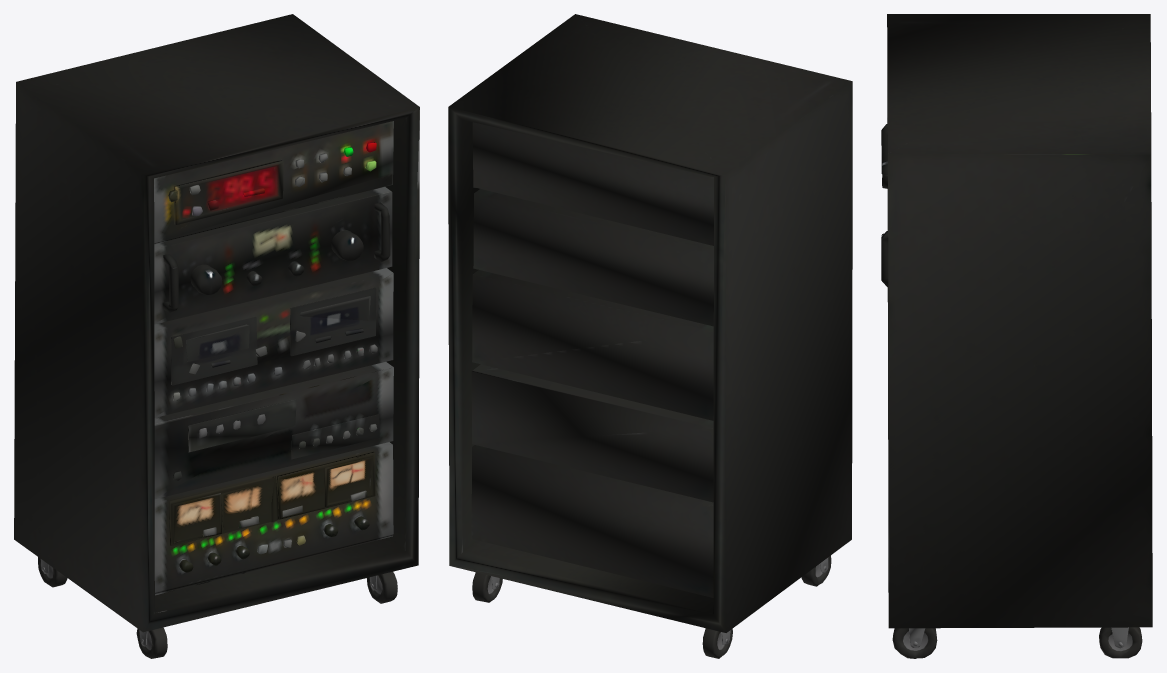
The model's file is radio_rack.glb.
3 views of the same model, side by side, from view 1: azimuth 30°, elevation 25°; view 2: azimuth 150°, elevation 25°; view 3: azimuth 270°, elevation 25° (orthographic). The views are drawn at different scales.
Parts seen in each view (by area): view 1: geometry_0; view 2: geometry_0; view 3: geometry_0.
Boxes of the visible parts, x1=… form: geometry_0: x1=14, y1=14, x2=419, y2=658; geometry_0: x1=448, y1=14, x2=852, y2=658; geometry_0: x1=881, y1=14, x2=1152, y2=658.
Size of the model in its own units: 0.5869 by 1 by 0.4783.
Materials: 1 (1 with a texture image).
